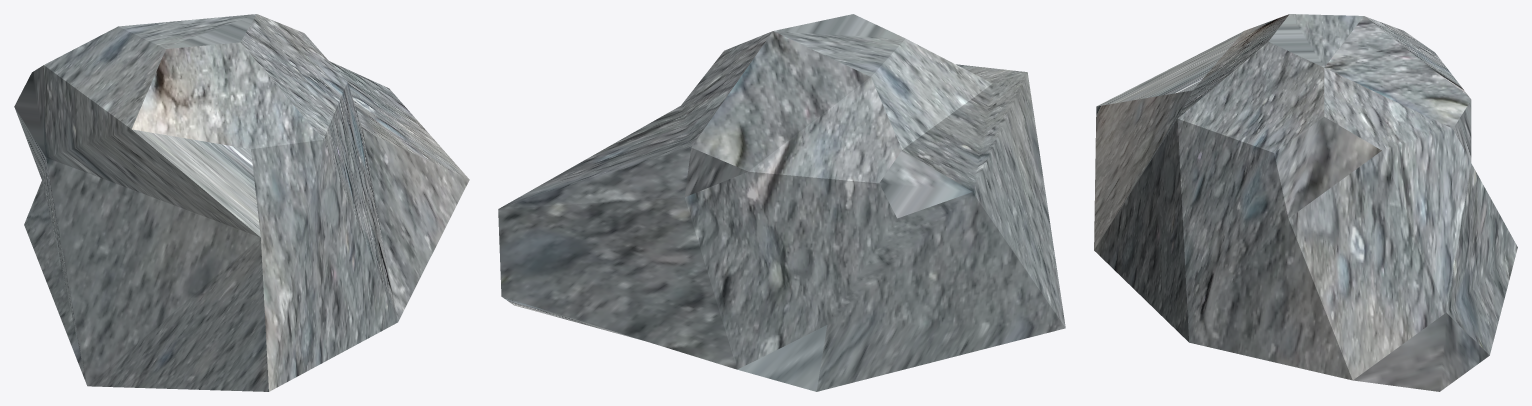
Rendered from rock2-newTexture.fbx.
The picture shows the model from 3 angles, left to right: view 1: azimuth 30°, elevation 25°; view 2: azimuth 150°, elevation 25°; view 3: azimuth 270°, elevation 25°; orthographic projection. The views are drawn at different scales.
Visible parts, largest first — view 1: Icosphere; view 2: Icosphere; view 3: Icosphere.
Part boxes in pixels (x1,y1,x2,y2): Icosphere: (14, 14, 469, 391); Icosphere: (498, 14, 1065, 391); Icosphere: (1094, 14, 1517, 391).
Size of the model in its own units: 251 by 153 by 223.
